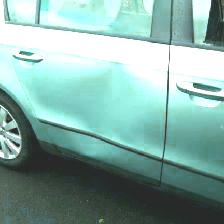door_dent: (74, 105, 128, 172)
